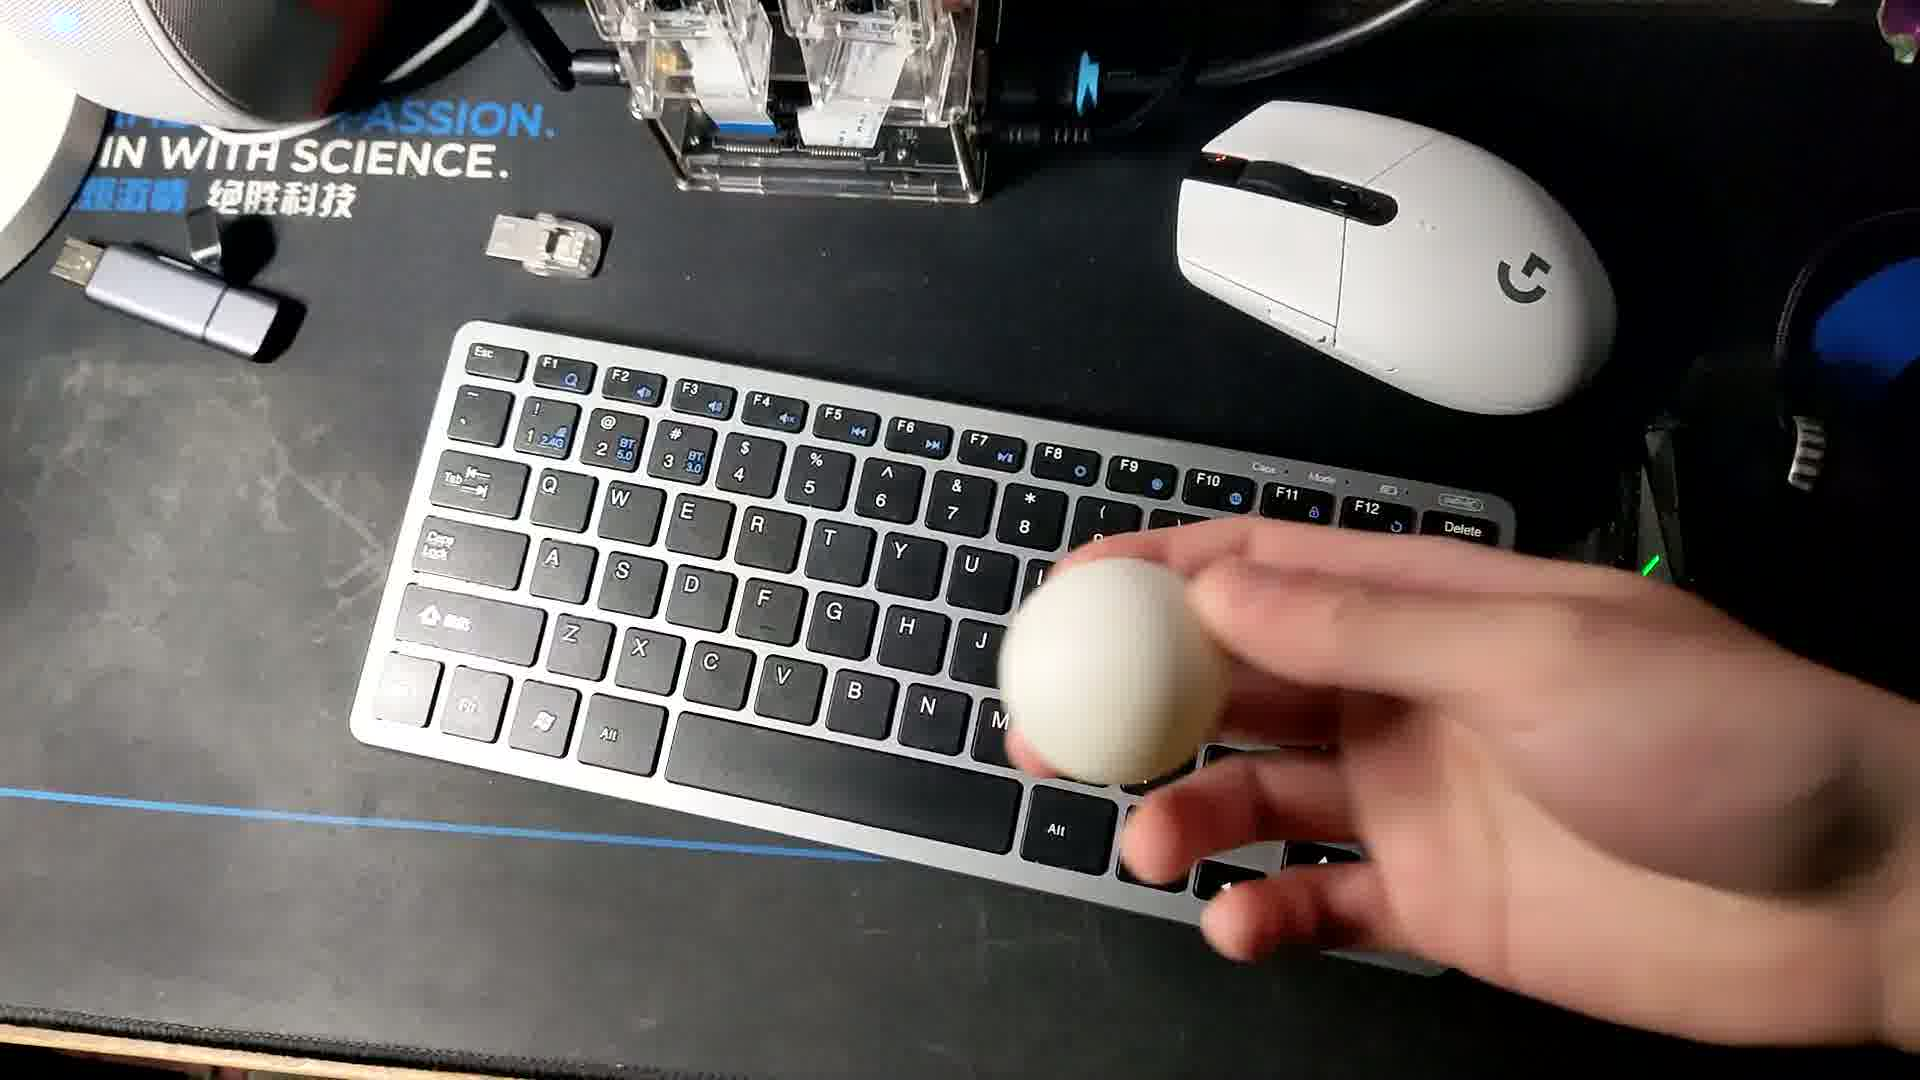Ball: (997, 558, 1217, 785)
